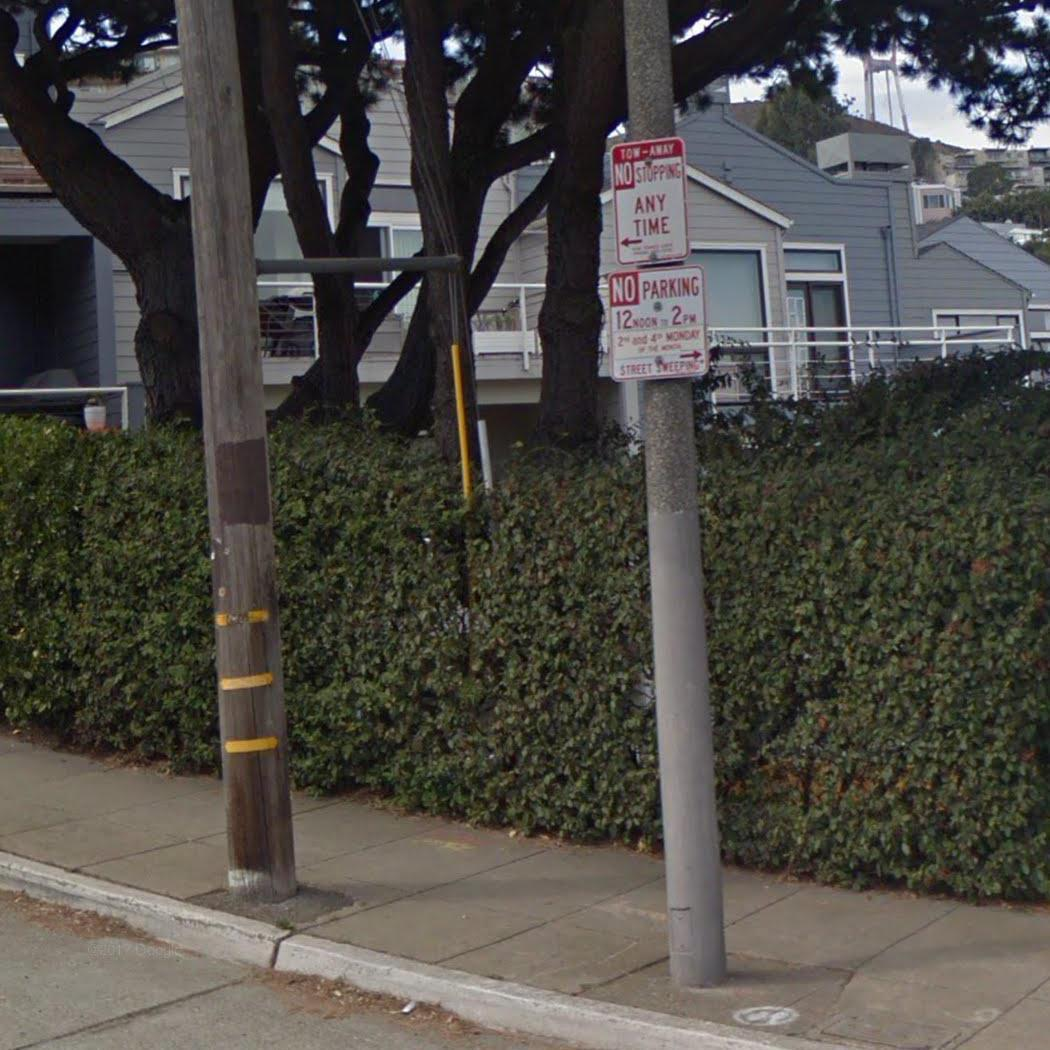No Parking: (597, 262, 713, 385)
No Parking Anytime: (604, 133, 697, 274)
